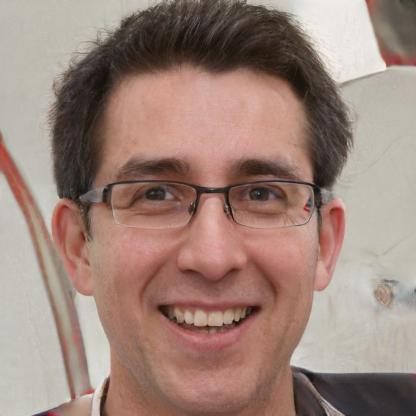glasses: (99, 172, 322, 234)
